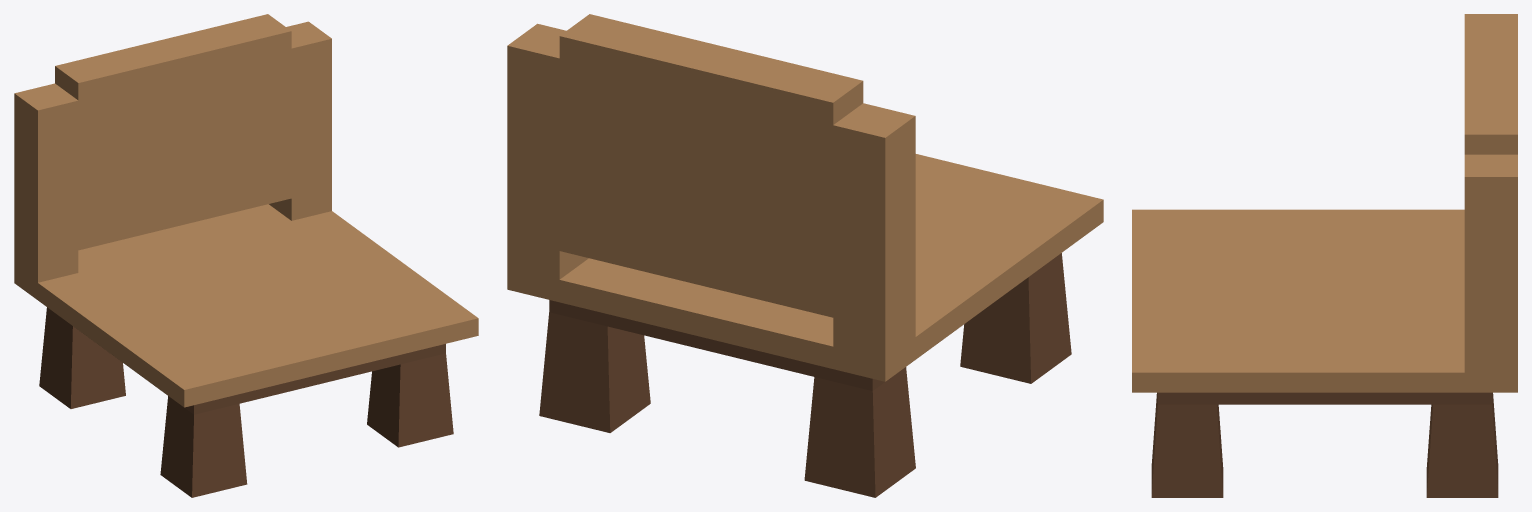
The model's file is qt-chair.glb.
3 renders of one model, left to right at view 1: azimuth 30°, elevation 25°; view 2: azimuth 150°, elevation 25°; view 3: azimuth 270°, elevation 25°, orthographic. The views are drawn at different scales.
Visible parts, largest first — view 1: Chair_Cube.016; view 2: Chair_Cube.016; view 3: Chair_Cube.016.
Boxes of the visible parts, left/top/right/bottom form: Chair_Cube.016: left=14, top=14, right=478, bottom=497; Chair_Cube.016: left=507, top=14, right=1103, bottom=497; Chair_Cube.016: left=1132, top=14, right=1517, bottom=497.
Size of the model in its own units: 1 by 1 by 1.
